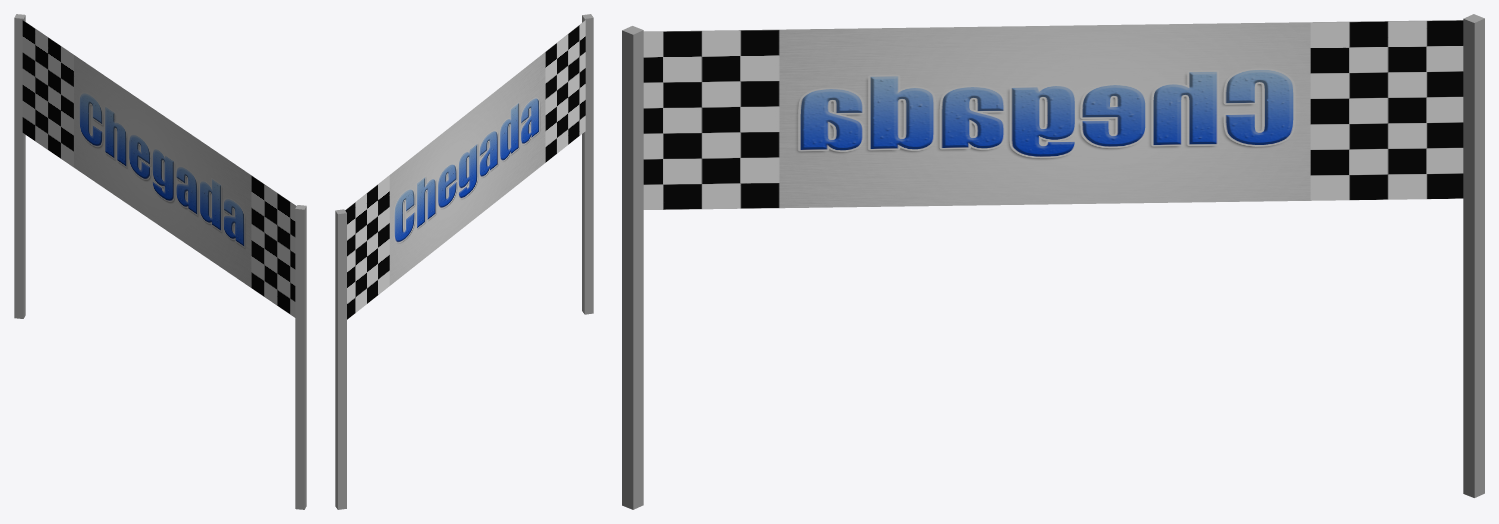
Rendered from banner.fbx.
3 views of the same model, side by side, from view 1: azimuth 30°, elevation 25°; view 2: azimuth 150°, elevation 25°; view 3: azimuth 270°, elevation 25° (orthographic). The views are drawn at different scales.
Parts seen in each view (by area): view 1: pPlane7, pCylinder3, pCylinder4; view 2: pPlane7, pCylinder4, pCylinder3; view 3: pPlane7, pCylinder3, pCylinder4.
Part boxes in pixels (<box>): pPlane7: <box>22,20,296,317</box>; pCylinder3: <box>295,205,306,509</box>; pCylinder4: <box>14,14,25,318</box>; pPlane7: <box>345,20,585,319</box>; pCylinder4: <box>335,209,346,509</box>; pCylinder3: <box>582,14,593,314</box>; pPlane7: <box>643,20,1463,209</box>; pCylinder3: <box>622,26,643,509</box>; pCylinder4: <box>1463,14,1484,497</box>.
Size of the model in its own units: 0.892 by 9.5 by 15.63.
